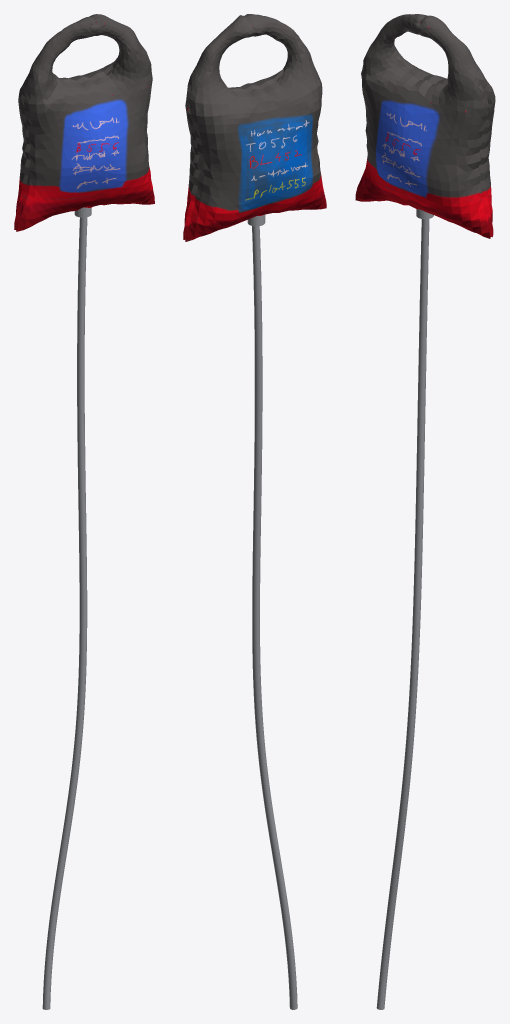
File: bag_model.fbx
3 renders of one model, left to right at view 1: azimuth 30°, elevation 25°; view 2: azimuth 210°, elevation 25°; view 3: azimuth 330°, elevation 25°, orthographic. The views are drawn at different scales.
Visible parts, largest first — view 1: Plane, NurbsPath; view 2: Plane, NurbsPath; view 3: Plane, NurbsPath.
Boxes of the visible parts, <box> form: Plane: <box>14,14,154,231</box>; NurbsPath: <box>42,217,87,1009</box>; Plane: <box>183,14,326,241</box>; NurbsPath: <box>252,226,297,1009</box>; Plane: <box>355,14,495,238</box>; NurbsPath: <box>376,219,429,1009</box>.
Bounding box in the file's own units: 123 × 851 × 66.15.
Materials: 2 (2 with a texture image).
